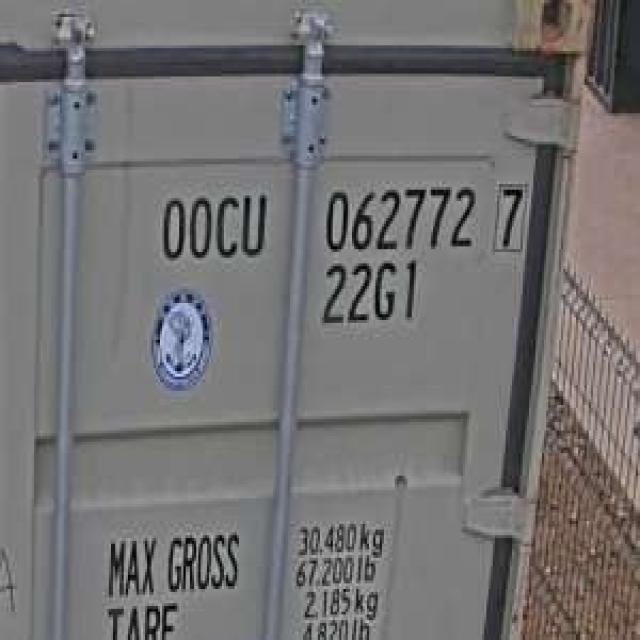dv: (489, 172, 531, 258)
owner: (154, 181, 273, 266)
serial: (316, 172, 478, 258)
size: (314, 255, 424, 331)
